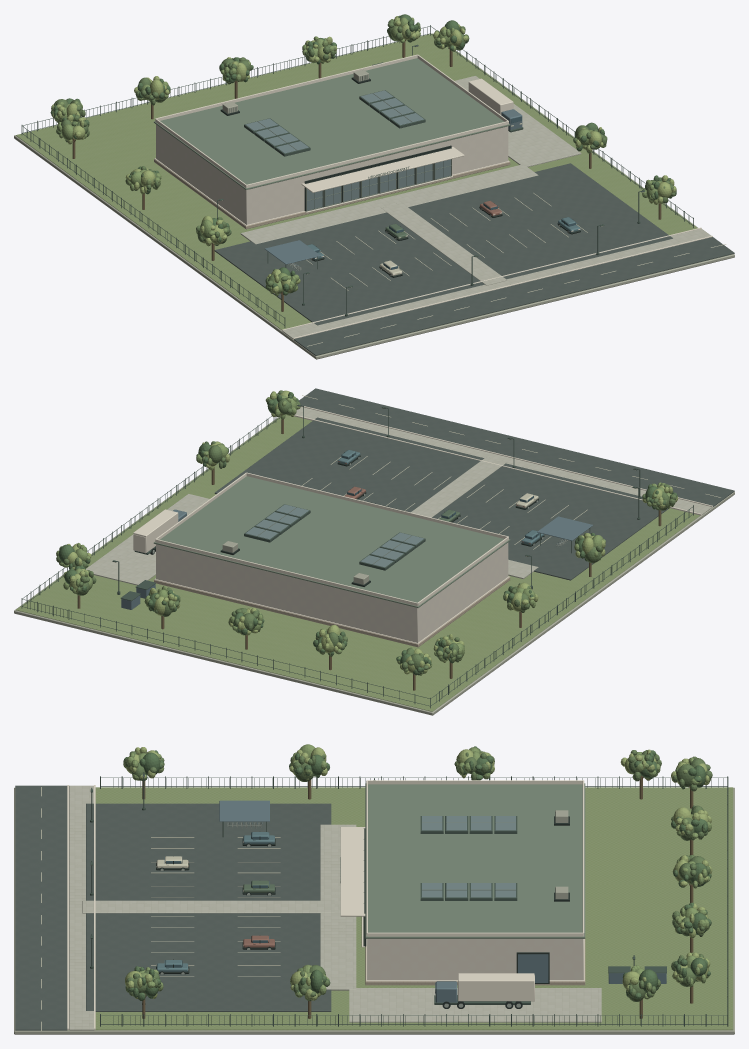
File: supermarket-intact.glb
3 views of the same model, one above another, from view 1: azimuth 30°, elevation 25°; view 2: azimuth 150°, elevation 25°; view 3: azimuth 270°, elevation 25° (orthographic). The views are drawn at different scales.
Parts seen in each view (by area): view 1: 材质批次_asphalt, 材质批次_grass, 材质批次_sage_metal_roof, 材质批次_plaza_paving, 材质批次_limestone, 材质批次_warm_cream_trim, 材质批次_street_metal, 材质批次_poi_window_lit, 材质批次_poi_service_concrete, 材质批次_leaf_2, 材质批次_leaf_0, 材质批次_leaf_1 (+7 smaller); view 2: 材质批次_grass, 材质批次_asphalt, 材质批次_sage_metal_roof, 材质批次_limestone, 材质批次_plaza_paving, 材质批次_warm_cream_trim, 材质批次_street_metal, 材质批次_poi_service_concrete, 材质批次_leaf_1, 材质批次_leaf_2, 材质批次_leaf_0, 材质批次_leaf_3 (+5 smaller); view 3: 材质批次_asphalt, 材质批次_grass, 材质批次_sage_metal_roof, 材质批次_plaza_paving, 材质批次_warm_cream_trim, 材质批次_limestone, 材质批次_street_metal, 材质批次_poi_service_concrete, 材质批次_leaf_1, 材质批次_leaf_3, 材质批次_leaf_2, 材质批次_leaf_0 (+7 smaller).
Part boxes in pixels (<box>): 材质批次_asphalt: <box>214,163,734,355</box>; 材质批次_grass: <box>16,33,697,329</box>; 材质批次_sage_metal_roof: <box>153,58,510,189</box>; 材质批次_plaza_paving: <box>240,75,711,338</box>; 材质批次_limestone: <box>156,124,508,224</box>; 材质批次_warm_cream_trim: <box>154,54,712,339</box>; 材质批次_street_metal: <box>21,25,693,327</box>; 材质批次_poi_window_lit: <box>245,90,450,210</box>; 材质批次_poi_service_concrete: <box>14,33,734,359</box>; 材质批次_leaf_2: <box>51,16,676,293</box>; 材质批次_leaf_0: <box>51,17,662,296</box>; 材质批次_leaf_1: <box>51,19,675,293</box>; 材质批次_grass: <box>16,414,699,711</box>; 材质批次_asphalt: <box>214,388,734,580</box>; 材质批次_sage_metal_roof: <box>153,476,510,607</box>; 材质批次_limestone: <box>156,542,508,642</box>; 材质批次_plaza_paving: <box>86,406,711,585</box>; 材质批次_warm_cream_trim: <box>133,406,712,643</box>; 材质批次_street_metal: <box>21,404,693,708</box>; 材质批次_poi_service_concrete: <box>14,417,734,715</box>; 材质批次_leaf_1: <box>56,390,676,674</box>; 材质批次_leaf_2: <box>65,390,678,674</box>; 材质批次_leaf_0: <box>56,395,673,675</box>; 材质批次_leaf_3: <box>58,392,677,675</box>; 材质批次_asphalt: <box>15,785,331,1030</box>; 材质批次_grass: <box>67,787,733,1030</box>; 材质批次_sage_metal_roof: <box>365,783,585,938</box>; 材质批次_plaza_paving: <box>69,785,601,1030</box>; 材质批次_warm_cream_trim: <box>67,780,584,1029</box>; 材质批次_limestone: <box>367,939,583,980</box>; 材质批次_street_metal: <box>90,772,728,1026</box>; 材质批次_poi_service_concrete: <box>14,787,734,1034</box>; 材质批次_leaf_1: <box>125,750,712,1001</box>; 材质批次_leaf_3: <box>123,746,711,1000</box>; 材质批次_leaf_2: <box>125,747,712,1000</box>; 材质批次_leaf_0: <box>123,744,711,1000</box>.
Size of the model in its own units: 80.5 by 9.45 by 100.
Materials: 27 (5 with a texture image).
